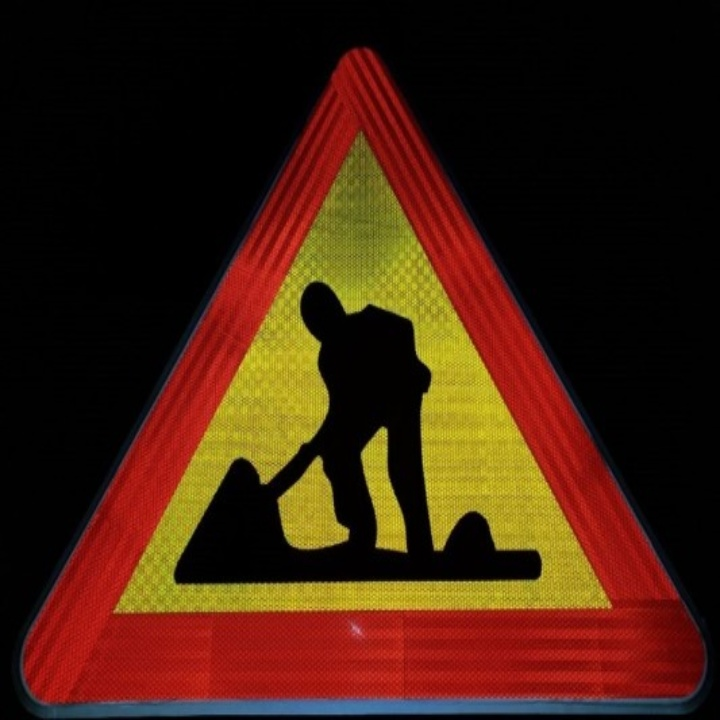const: (195, 283, 533, 581)
